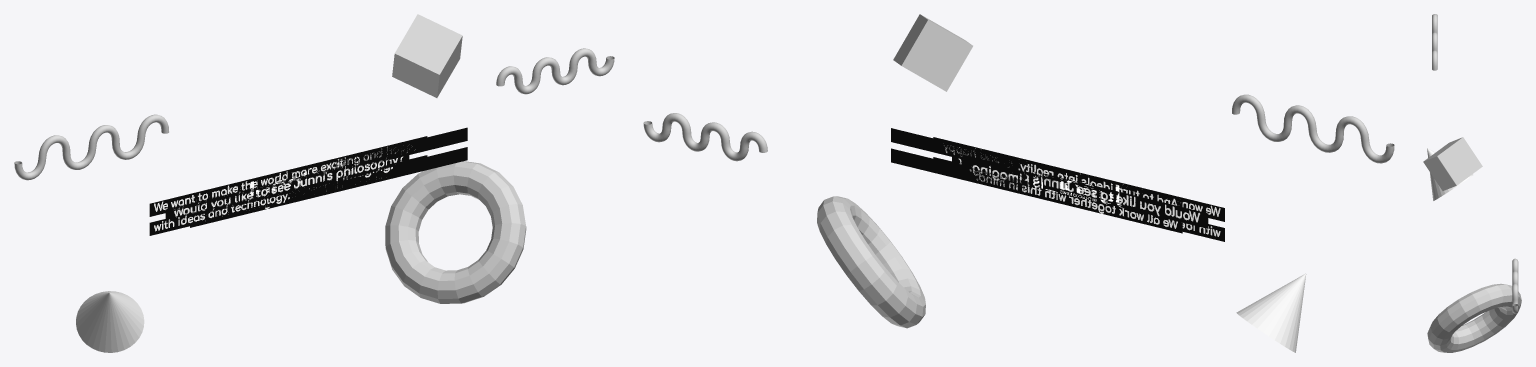
File: common3.glb
3 renders of one model, left to right at view 1: azimuth 30°, elevation 25°; view 2: azimuth 150°, elevation 25°; view 3: azimuth 270°, elevation 25°, orthographic. The views are drawn at different scales.
Visible parts, largest first — view 1: Torus, Cube, Cone, Plane.001, Plane.002, Plane.005, Wave_Left, Plane.003, Wave_Right, Plane.004; view 2: Torus, Plane.004, Cube, Plane.003, Plane.005, Cone, Wave_Left, Wave_Right, Plane.001, Plane.002, Imaging; view 3: Torus, Cube, Wave_Right, Wave_Left, Cone.
Boxes of the visible parts, x1,y1,x2,y2 form: Torus: [385, 161, 526, 303]; Cube: [392, 14, 462, 97]; Cone: [76, 291, 144, 352]; Plane.001: [149, 136, 427, 216]; Plane.002: [149, 155, 427, 235]; Plane.005: [165, 155, 409, 223]; Wave_Left: [14, 114, 168, 180]; Plane.003: [190, 127, 467, 207]; Wave_Right: [496, 48, 614, 94]; Plane.004: [190, 147, 467, 227]; Torus: [817, 196, 925, 328]; Plane.004: [891, 148, 1182, 233]; Cube: [893, 14, 972, 91]; Plane.003: [891, 128, 1182, 206]; Plane.005: [952, 157, 1208, 228]; Cone: [1236, 273, 1306, 352]; Wave_Left: [1232, 94, 1394, 163]; Wave_Right: [643, 113, 767, 161]; Plane.001: [933, 137, 1224, 221]; Plane.002: [933, 157, 1224, 241]; Imaging: [964, 157, 1025, 188]; Torus: [1427, 283, 1521, 352]; Cube: [1423, 137, 1482, 190]; Wave_Right: [1512, 258, 1518, 313]; Wave_Left: [1432, 14, 1437, 70]; Cone: [1427, 148, 1472, 200].
Size of what is drawn, in the model's own units: 8.72 by 3.71 by 1.62.
4 materials, 1 textured.
